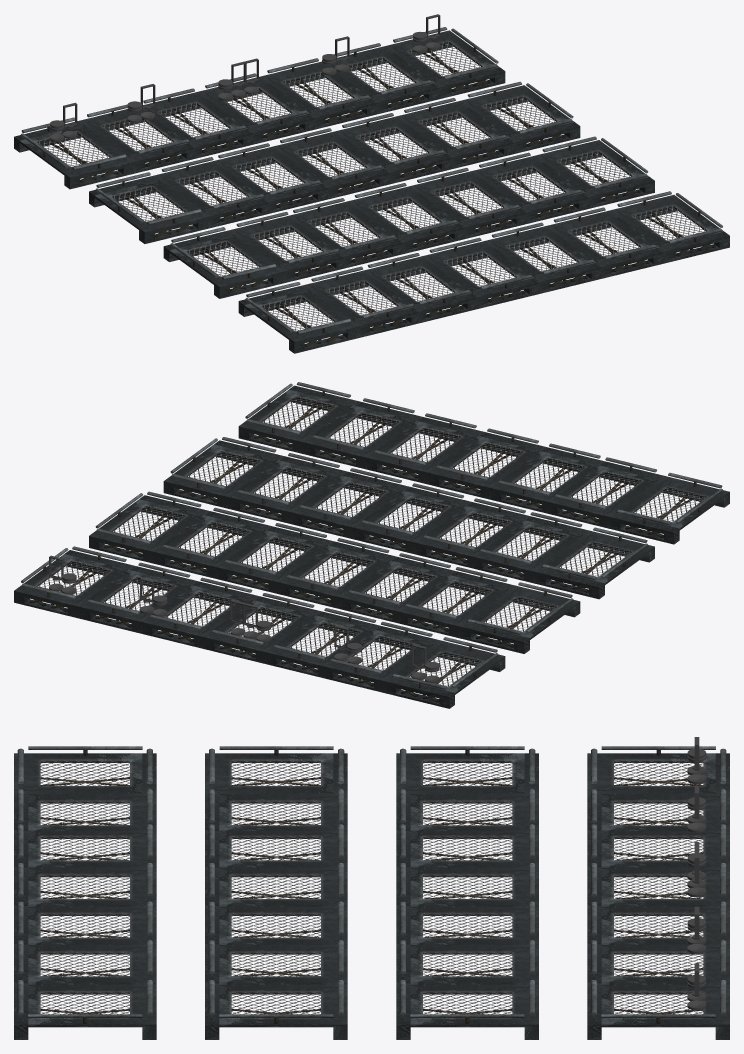
The model's file is TutorialScene.fbx.
The picture shows the model from 3 angles, top to bottom: view 1: azimuth 30°, elevation 25°; view 2: azimuth 150°, elevation 25°; view 3: azimuth 270°, elevation 25°; orthographic projection. The views are drawn at different scales.
Parts seen in each view (by area): view 1: TutorialFloor__1, TutorialFloor__3, TutorialFloor__2, TutorialFloor__0; view 2: TutorialFloor__1, TutorialFloor__2, TutorialFloor__3, TutorialFloor__0; view 3: TutorialFloor__1, TutorialFloor__2, TutorialFloor__3, TutorialFloor__0.
Part boxes in pixels (x1,y1,x2,y2): TutorialFloor__1: (89, 81, 580, 243); TutorialFloor__3: (238, 191, 729, 353); TutorialFloor__2: (163, 136, 654, 298); TutorialFloor__0: (14, 27, 505, 189); TutorialFloor__1: (89, 491, 580, 653); TutorialFloor__2: (163, 437, 654, 599); TutorialFloor__3: (238, 382, 729, 544); TutorialFloor__0: (14, 546, 505, 708); TutorialFloor__1: (396, 746, 538, 1039); TutorialFloor__2: (205, 746, 347, 1039); TutorialFloor__3: (14, 746, 156, 1039); TutorialFloor__0: (587, 746, 729, 1039).
Size of the model in its own units: 33.6 by 3.14 by 37.46.
Materials: 15 (15 with a texture image).
